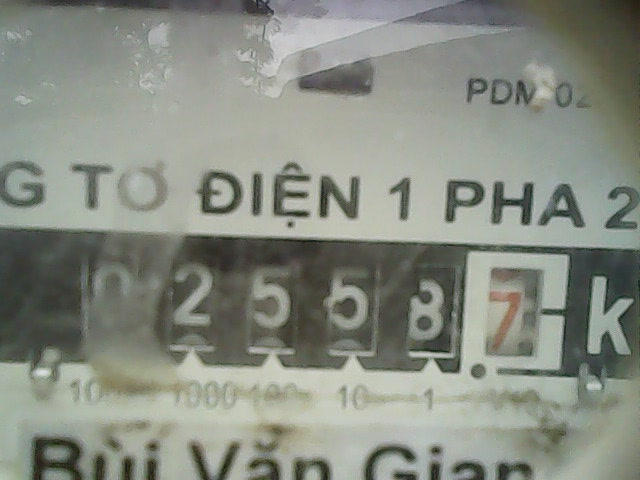phy_plate: (64, 226, 577, 383)
